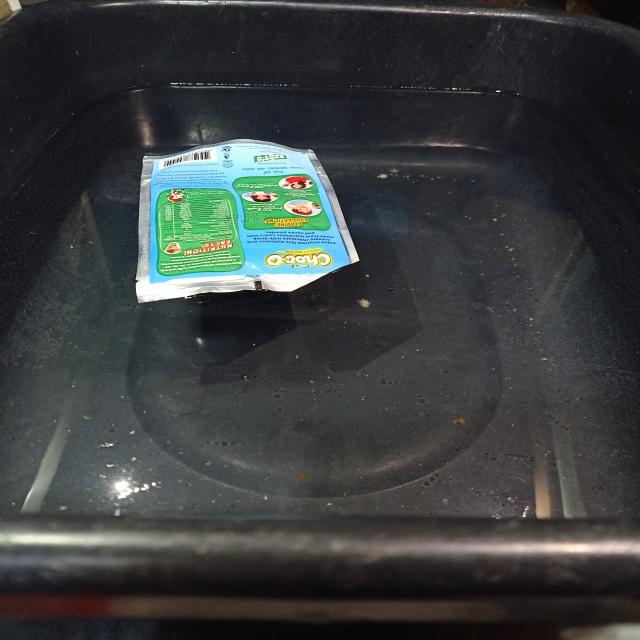Plastic Pouch: (136, 140, 359, 301)
